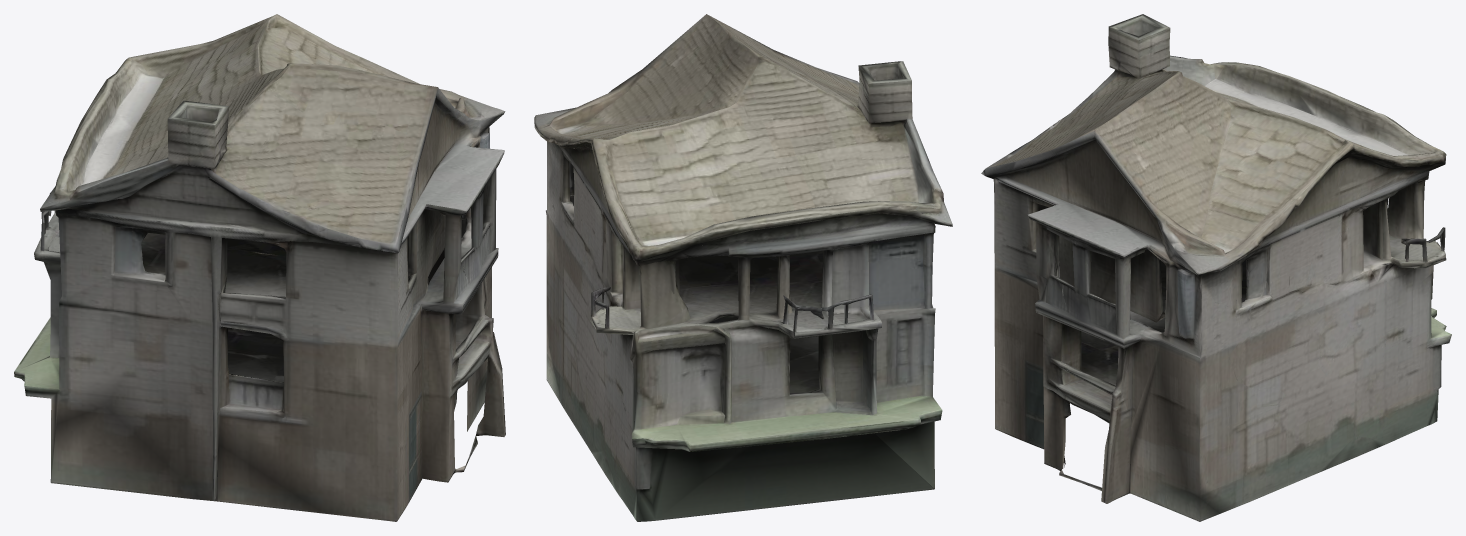
File: house.glb
3 renders of one model, left to right at view 1: azimuth 30°, elevation 25°; view 2: azimuth 150°, elevation 25°; view 3: azimuth 270°, elevation 25°, orthographic. The views are drawn at different scales.
Visible parts, largest first — view 1: house; view 2: house; view 3: house.
Boxes of the visible parts, x1,y1,x2,y2 form: house: [14, 14, 505, 521]; house: [534, 14, 952, 521]; house: [981, 14, 1451, 521].
Size of the model in its own units: 0.9991 by 0.8127 by 0.9753.
1 material, 1 textured.
